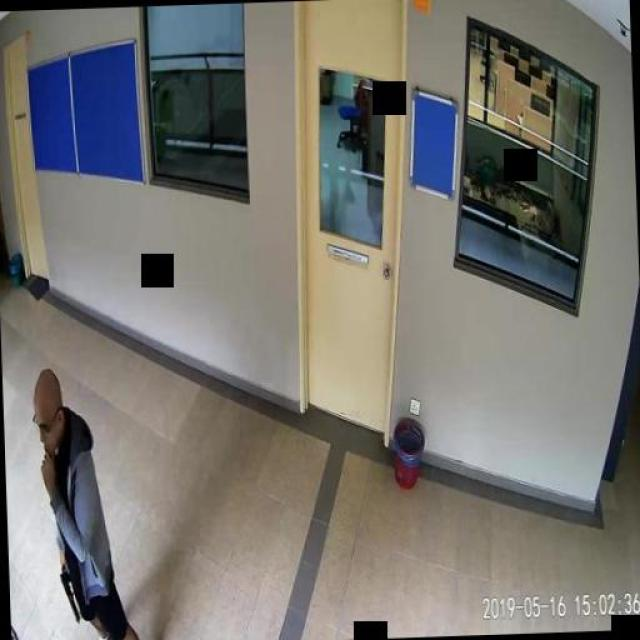gun: (56, 562, 79, 622)
